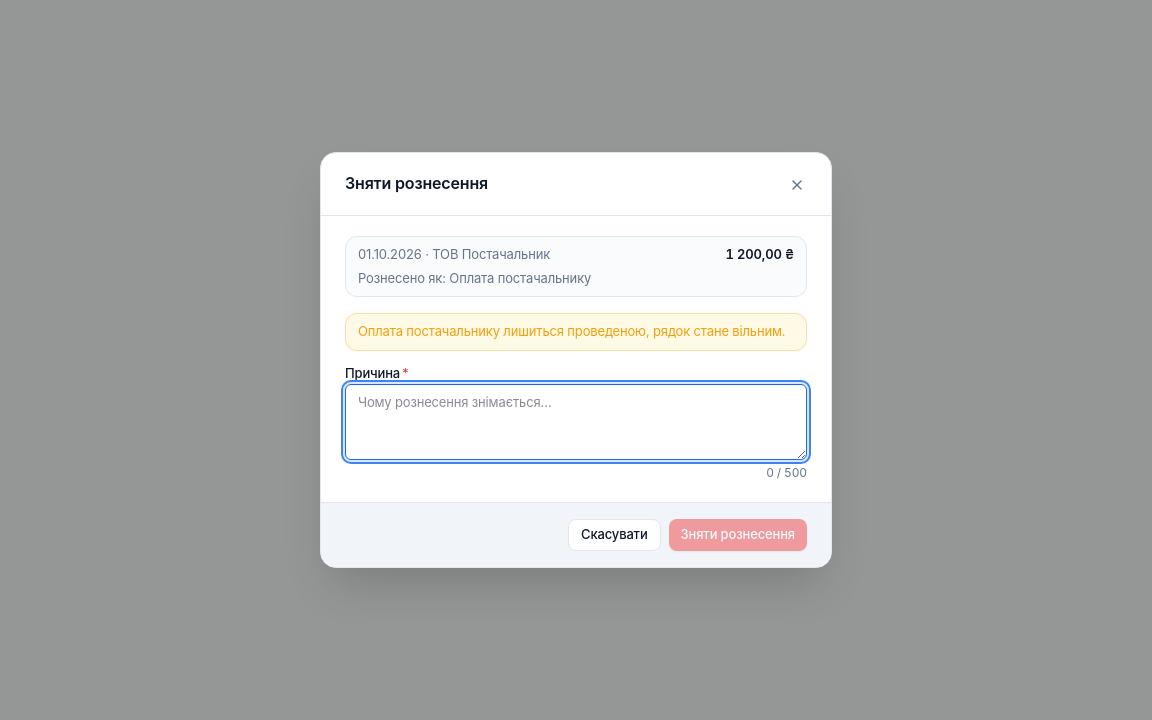
UnreconcileBankTransactionModal › відмова сервера лишається в модалці його текстом; модалка не закривається
Type "дубль" into the text box labelled "Причина*".
click(576, 422); type("дубль")  # box left=345, top=384, right=807, bottom=460
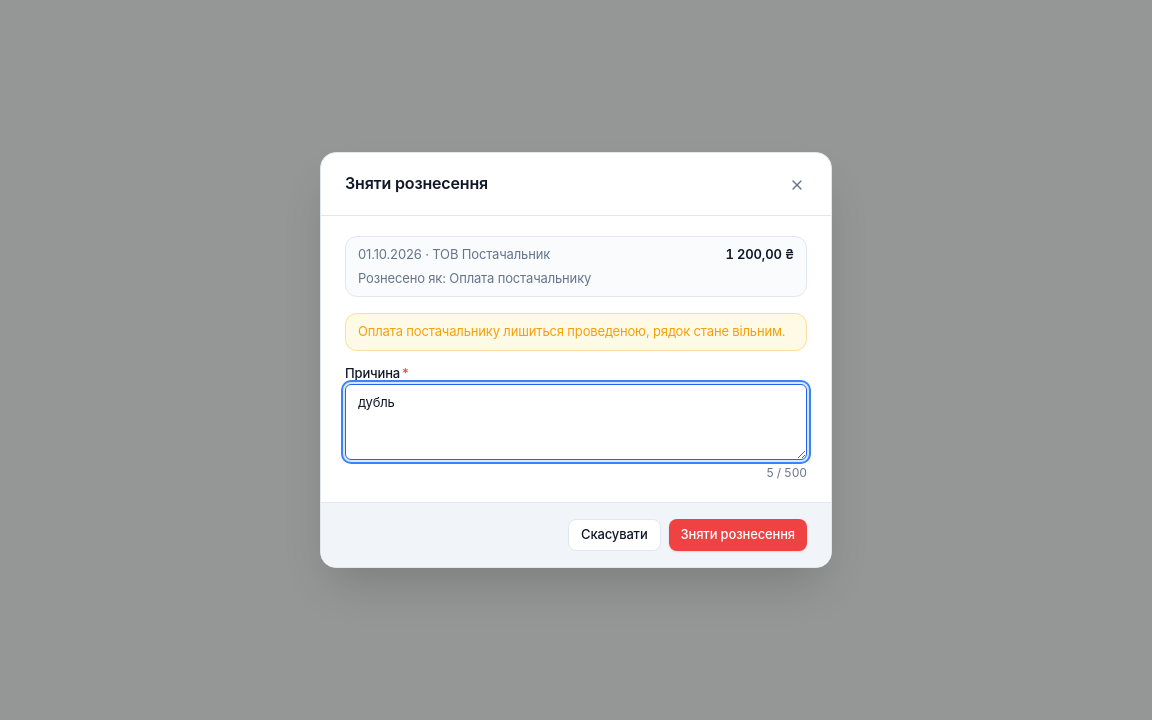
Click the button "Зняти рознесення".
click(738, 535)  # box left=669, top=519, right=807, bottom=551
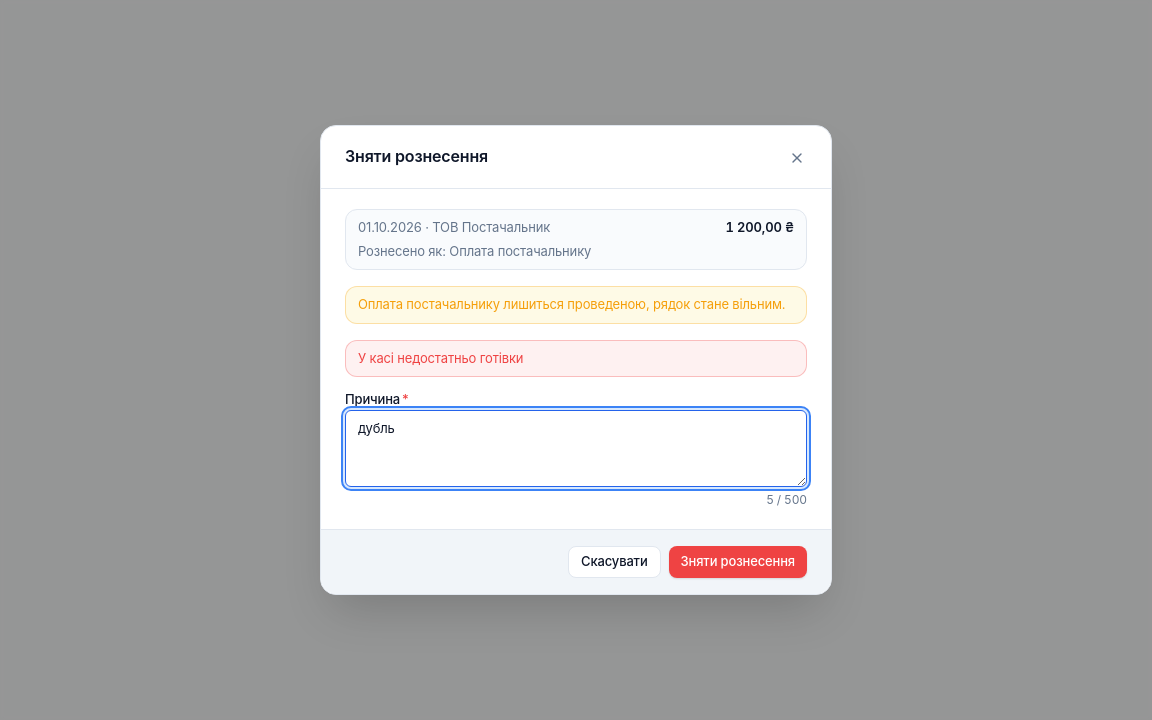
Expected: the message reads "У касі недостатньо готівки", left=358, top=350, right=523, bottom=366
